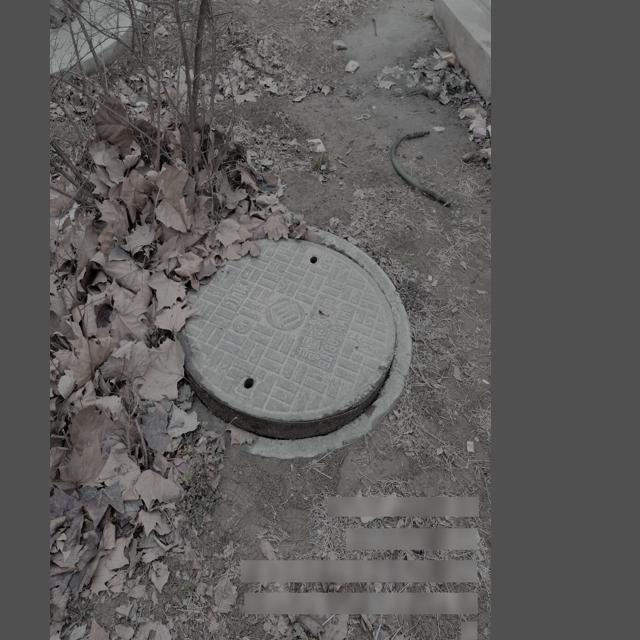uncovered: (164, 222, 400, 443)
